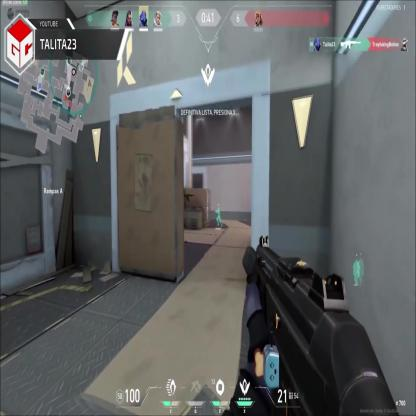enemy: (178, 182, 189, 231)
enemy_head: (179, 183, 183, 191)
